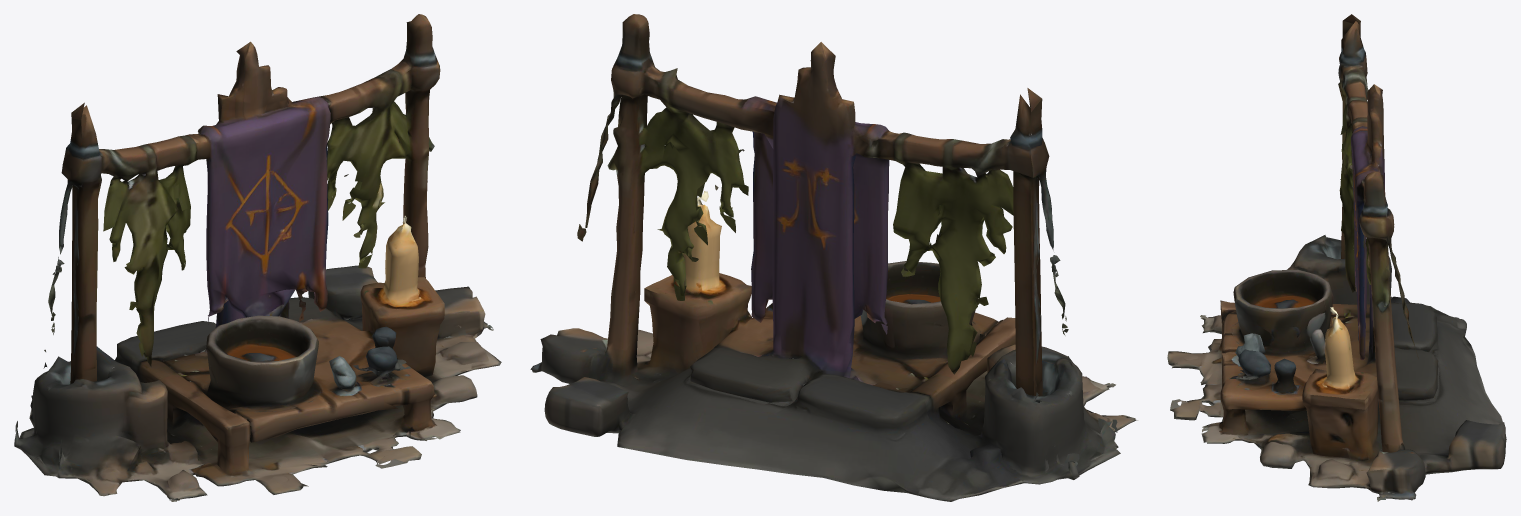
The model's file is SM_Prop_StoneAltar_01.fbx.
The picture shows the model from 3 angles, left to right: view 1: azimuth 30°, elevation 25°; view 2: azimuth 150°, elevation 25°; view 3: azimuth 270°, elevation 25°; orthographic projection. The views are drawn at different scales.
Parts seen in each view (by area): view 1: SM_Prop_StoneAltar_01; view 2: SM_Prop_StoneAltar_01; view 3: SM_Prop_StoneAltar_01.
Part boxes in pixels (x1,y1,x2,y2): SM_Prop_StoneAltar_01: (14,14,501,501); SM_Prop_StoneAltar_01: (530,14,1137,501); SM_Prop_StoneAltar_01: (1167,14,1506,501).
Bounding box in the file's own units: 0.9788 × 0.674 × 0.6613.
Materials: 1 (1 with a texture image).
